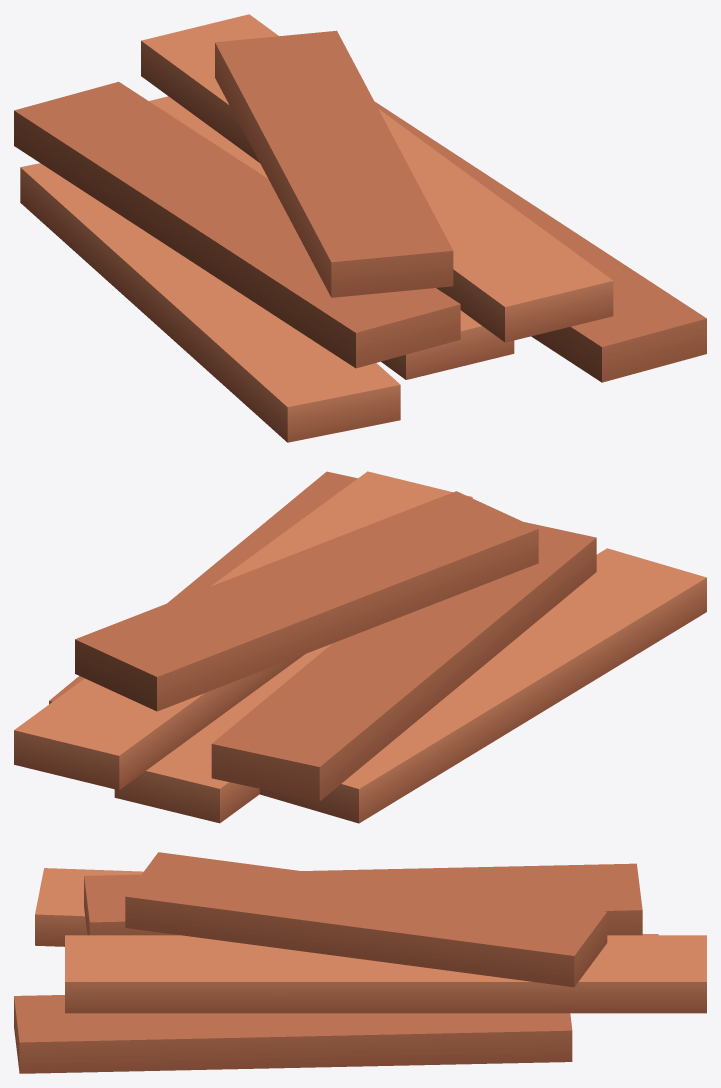
The model's file is resource-planks.obj.
3 renders of one model, top to bottom at view 1: azimuth 30°, elevation 25°; view 2: azimuth 150°, elevation 25°; view 3: azimuth 270°, elevation 25°, orthographic. The views are drawn at different scales.
Parts seen in each view (by area): view 1: resource-planks; view 2: resource-planks; view 3: resource-planks.
Boxes of the visible parts, x1=… form: resource-planks: x1=14, y1=14, x2=706, y2=442; resource-planks: x1=14, y1=471, x2=706, y2=823; resource-planks: x1=14, y1=852, x2=706, y2=1073.
Bounding box in the file's own units: 0.3729 × 0.0936 × 0.626.
1 material, 1 textured.
